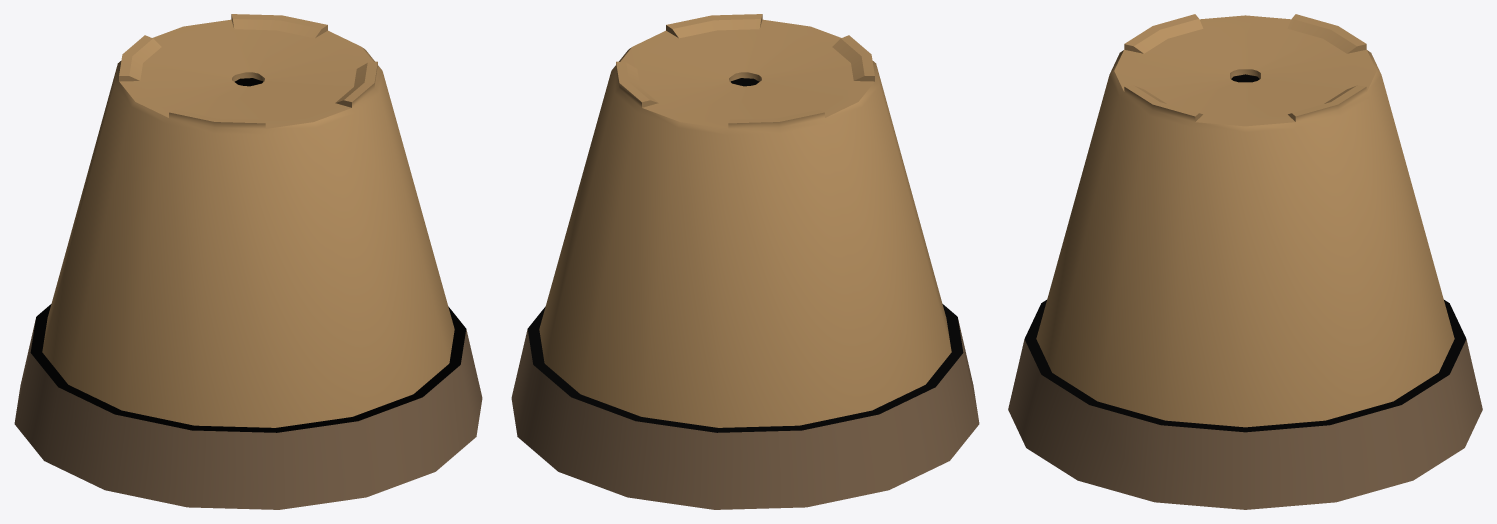
3 renders of one model, left to right at view 1: azimuth 30°, elevation 25°; view 2: azimuth 150°, elevation 25°; view 3: azimuth 270°, elevation 25°, orthographic.
Visible parts, largest first — view 1: Joint_0_Object_2, Joint_0_Object_0, Joint_0_Object_1; view 2: Joint_0_Object_2, Joint_0_Object_0, Joint_0_Object_1; view 3: Joint_0_Object_2, Joint_0_Object_0, Joint_0_Object_1.
Boxes of the visible parts, box(x1,y1,x2,y2) form: Joint_0_Object_2: box(42, 14, 454, 427); Joint_0_Object_0: box(14, 320, 482, 509); Joint_0_Object_1: box(30, 78, 466, 432); Joint_0_Object_2: box(539, 14, 951, 427); Joint_0_Object_0: box(511, 320, 979, 509); Joint_0_Object_1: box(527, 78, 963, 432); Joint_0_Object_2: box(1036, 14, 1454, 427); Joint_0_Object_0: box(1008, 339, 1482, 509); Joint_0_Object_1: box(1024, 74, 1466, 432).
Bounding box in the file's own units: 380 × 304 × 380.
